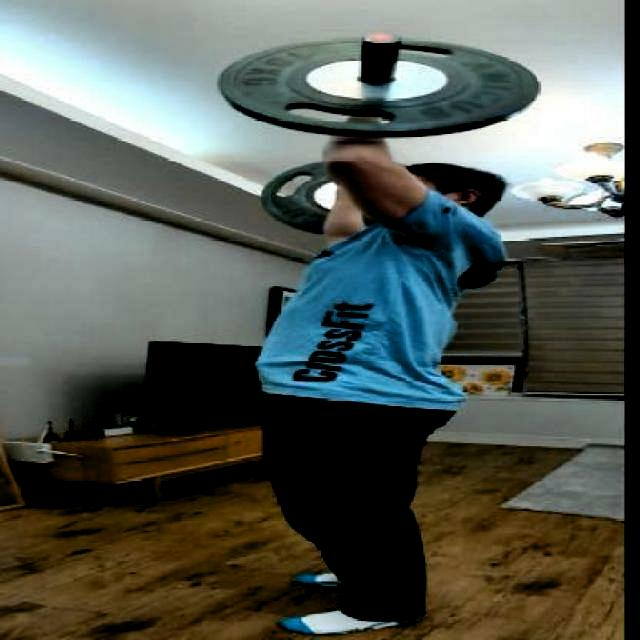barbell: (213, 34, 549, 143)
